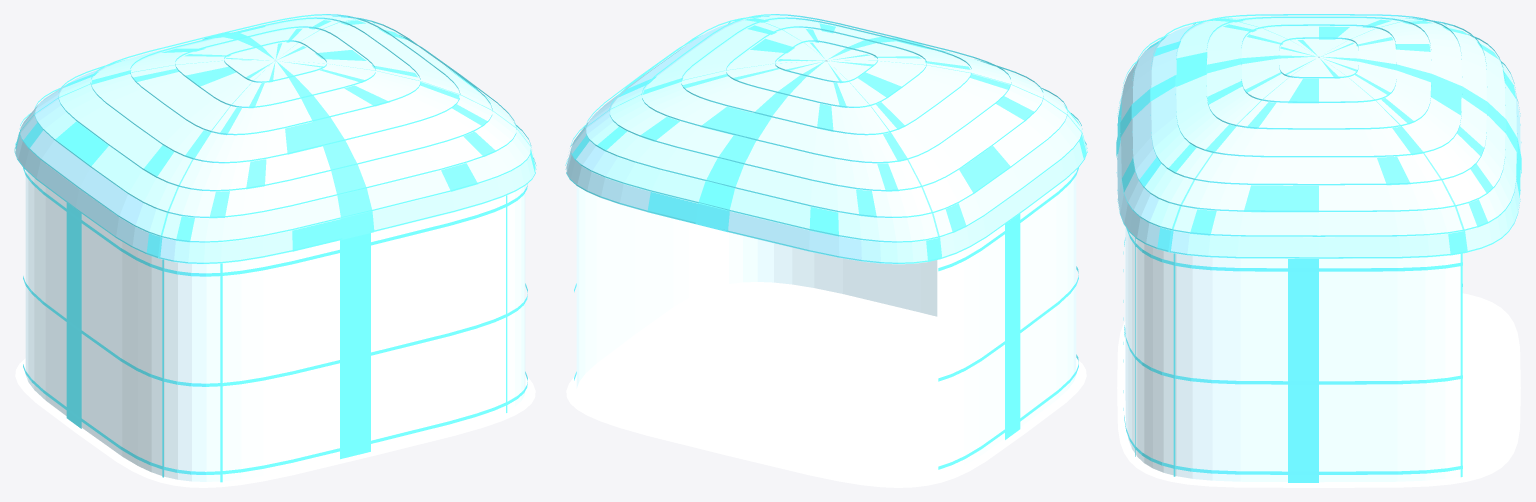
Rendered from cabin-electronic.glb.
3 renders of one model, left to right at view 1: azimuth 30°, elevation 25°; view 2: azimuth 150°, elevation 25°; view 3: azimuth 270°, elevation 25°, orthographic. The views are drawn at different scales.
Parts seen in each view (by area): view 1: PRISM IGLOO; view 2: PRISM IGLOO; view 3: PRISM IGLOO.
Part boxes in pixels (<box>): PRISM IGLOO: <box>14,14,536,487</box>; PRISM IGLOO: <box>565,14,1087,487</box>; PRISM IGLOO: <box>1116,14,1521,487</box>.
Bounding box in the file's own units: 9.53 × 7.33 × 8.13.
